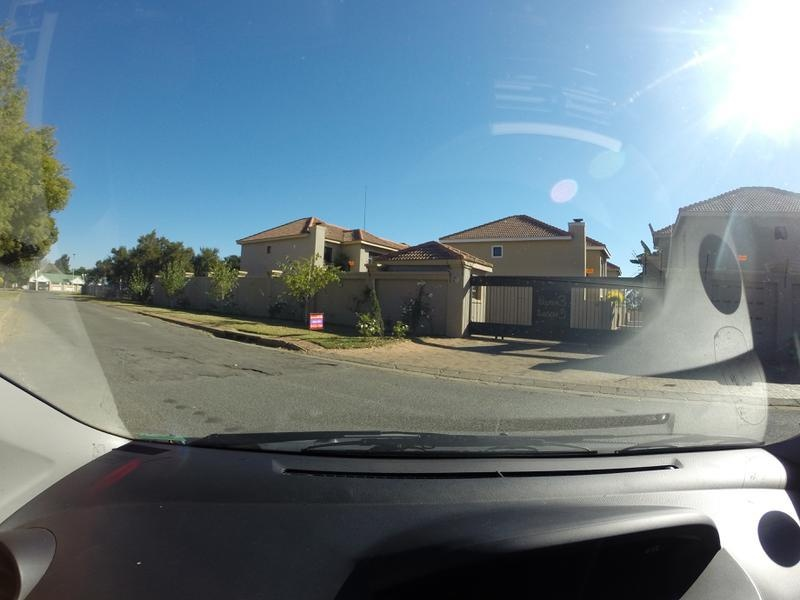pothole: (212, 360, 276, 380), (157, 352, 198, 375), (303, 360, 341, 367)
